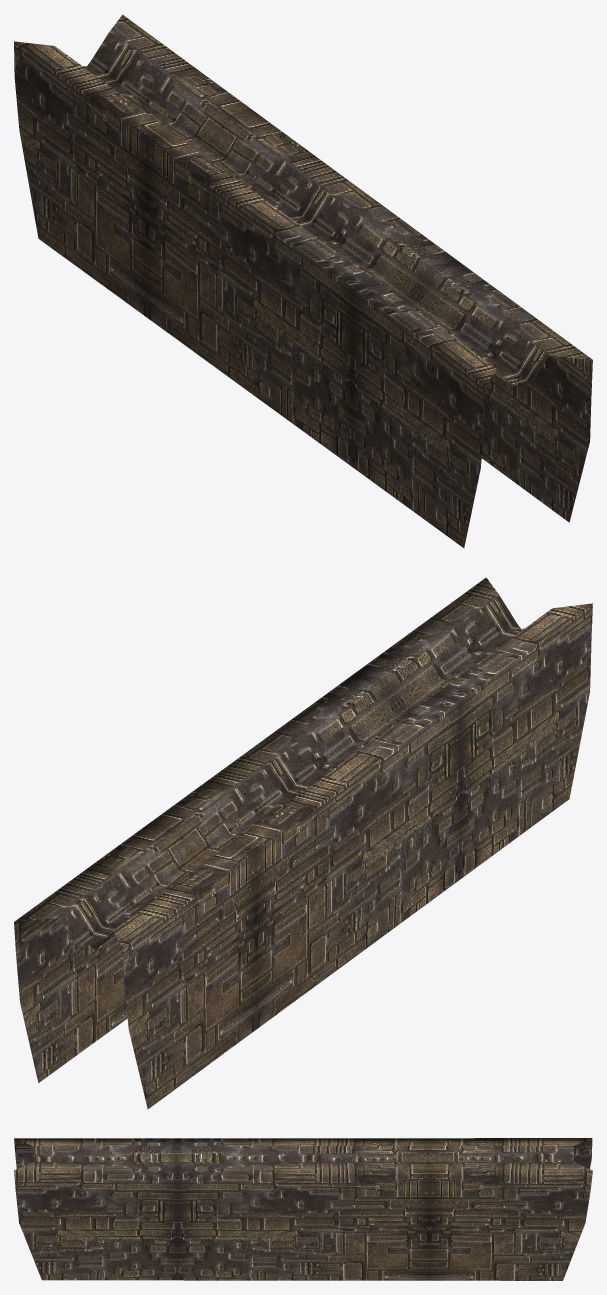
Rendered from Wall.fbx.
3 views of the same model, one above another, from view 1: azimuth 30°, elevation 25°; view 2: azimuth 150°, elevation 25°; view 3: azimuth 270°, elevation 25° (orthographic). The views are drawn at different scales.
Parts seen in each view (by area): view 1: Wall; view 2: Wall; view 3: Wall.
Part boxes in pixels (<box>): Wall: <box>14,14,592,548</box>; Wall: <box>14,577,592,1109</box>; Wall: <box>14,1138,592,1280</box>.
Bounding box in the file's own units: 166 × 260 × 1241.
